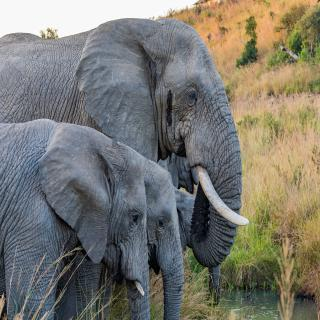Elephant: (0, 16, 266, 265), (0, 117, 152, 320), (141, 151, 192, 320)
